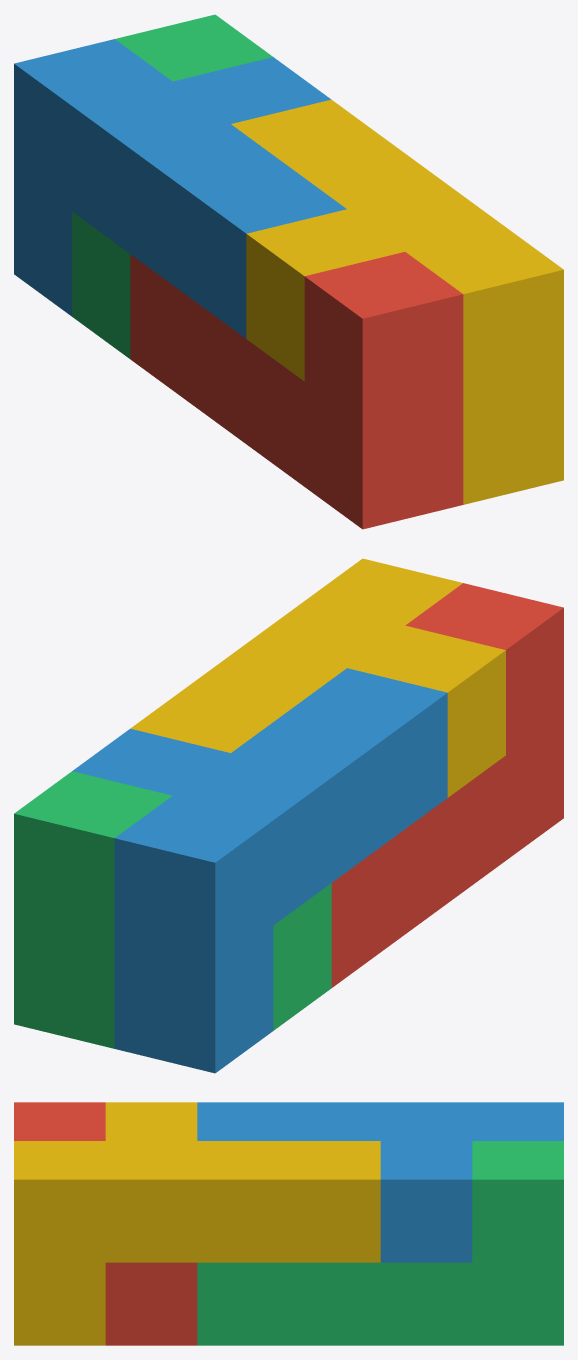
Rendered from tiling.obj.
3 views of the same model, one above another, from view 1: azimuth 30°, elevation 25°; view 2: azimuth 150°, elevation 25°; view 3: azimuth 270°, elevation 25° (orthographic). The views are drawn at different scales.
Parts seen in each view (by area): view 1: copy_2, copy_1, copy_4, copy_3; view 2: copy_2, copy_1, copy_4, copy_3; view 3: copy_4, copy_3, copy_2, copy_1.
Boxes of the visible parts, x1=… form: copy_2: x1=14, y1=39, x2=346, y2=338; copy_1: x1=130, y1=252, x2=463, y2=529; copy_4: x1=231, y1=99, x2=563, y2=504; copy_3: x1=72, y1=14, x2=272, y2=358; copy_2: x1=72, y1=668, x2=447, y2=1073; copy_1: x1=331, y1=583, x2=563, y2=987; copy_4: x1=130, y1=558, x2=505, y2=797; copy_3: x1=14, y1=771, x2=331, y2=1048; copy_4: x1=14, y1=1102, x2=380, y2=1345; copy_3: x1=197, y1=1141, x2=563, y2=1345; copy_2: x1=197, y1=1102, x2=563, y2=1262; copy_1: x1=14, y1=1102, x2=197, y2=1345.
Size of the model in its own units: 2 by 2 by 6.
